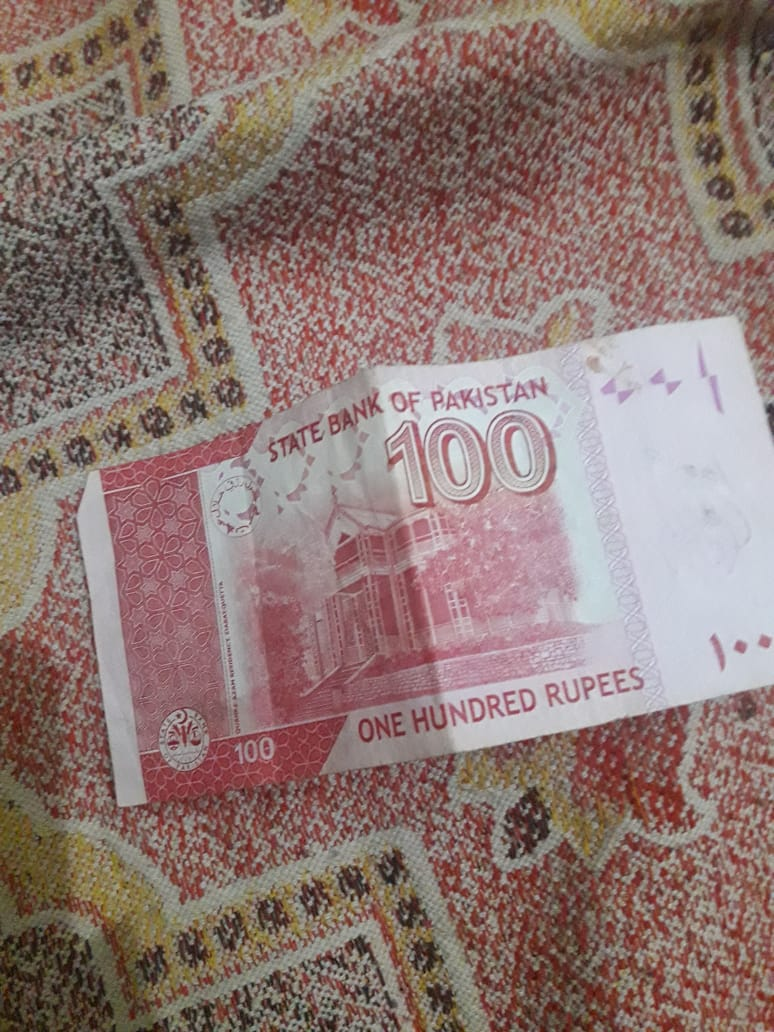100 rupee: (69, 288, 751, 845)
